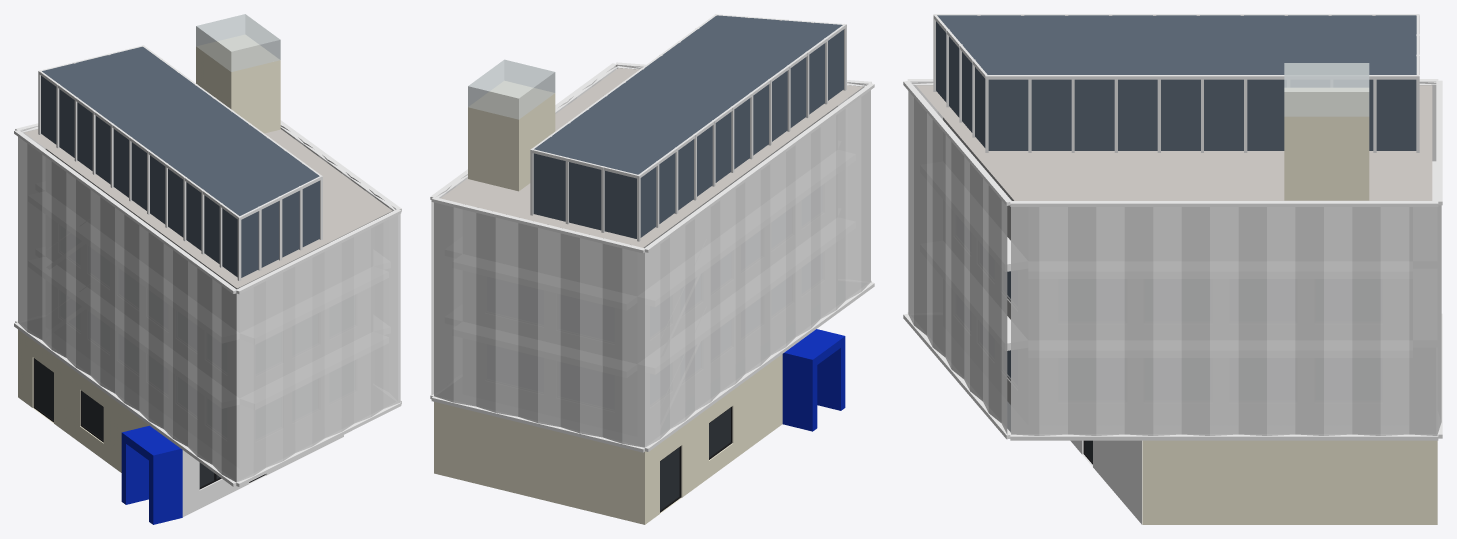
Rendered from sauna529.glb.
The picture shows the model from 3 angles, left to right: view 1: azimuth 30°, elevation 25°; view 2: azimuth 150°, elevation 25°; view 3: azimuth 270°, elevation 25°; orthographic projection. The views are drawn at different scales.
Parts seen in each view (by area): view 1: Sauna529; view 2: Sauna529; view 3: Sauna529.
Boxes of the visible parts, left/top/right/bottom form: Sauna529: left=14, top=14, right=401, bottom=524; Sauna529: left=430, top=14, right=874, bottom=524; Sauna529: left=903, top=14, right=1442, bottom=524.
Size of the model in its own units: 12.14 by 17.4 by 19.77.
